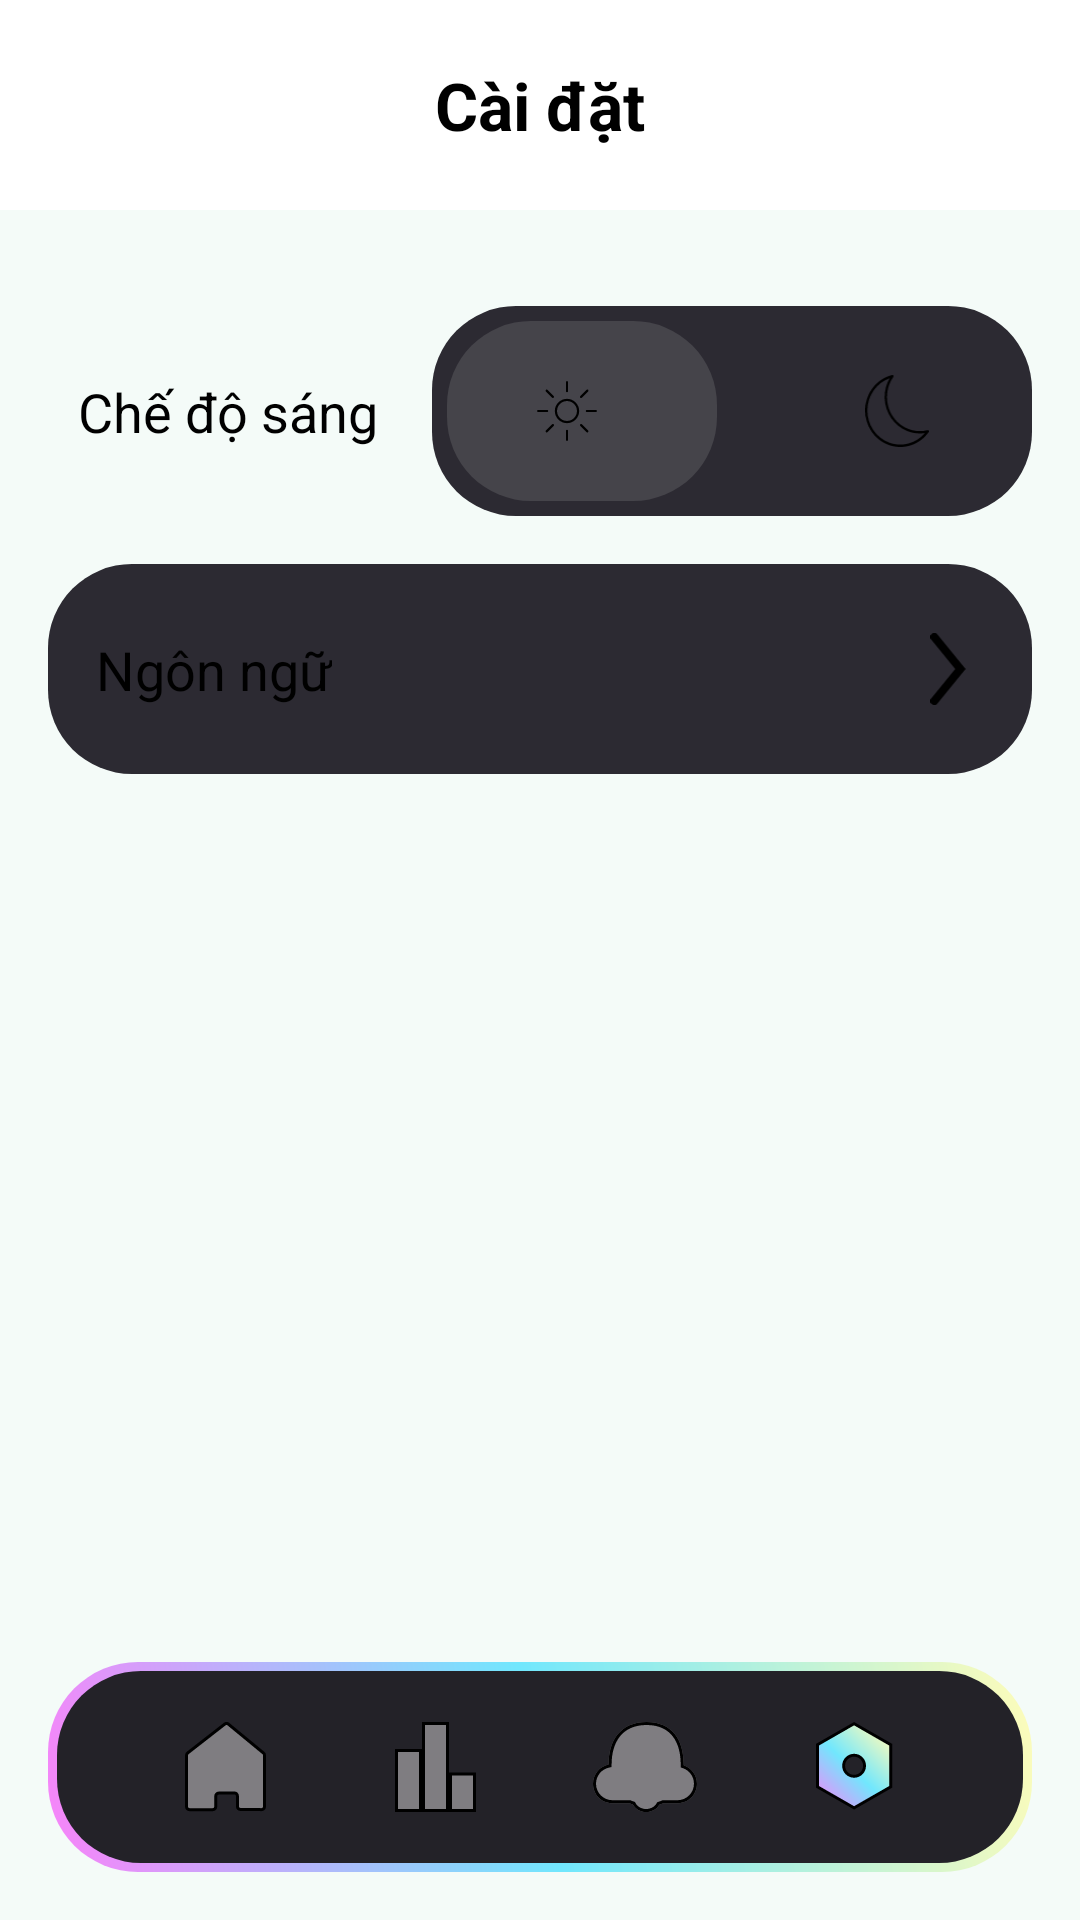

Icon click points for this 1080*1920 phone screenshot, format (x,y):
Forward: (947,669)
Home: (225,1766)
moon: (897,411)
Notifications: (645,1767)
Settings: (854,1765)
Stats: (435,1767)
sun: (567,411)
